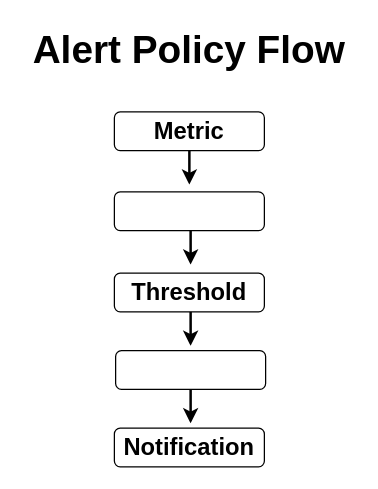
This 378x489 diagram has some shape labels left out. Each missing label, with the centre of its shape:
"Condition" belongs at point 188,211.
"Duration" belongs at point 190,369.
